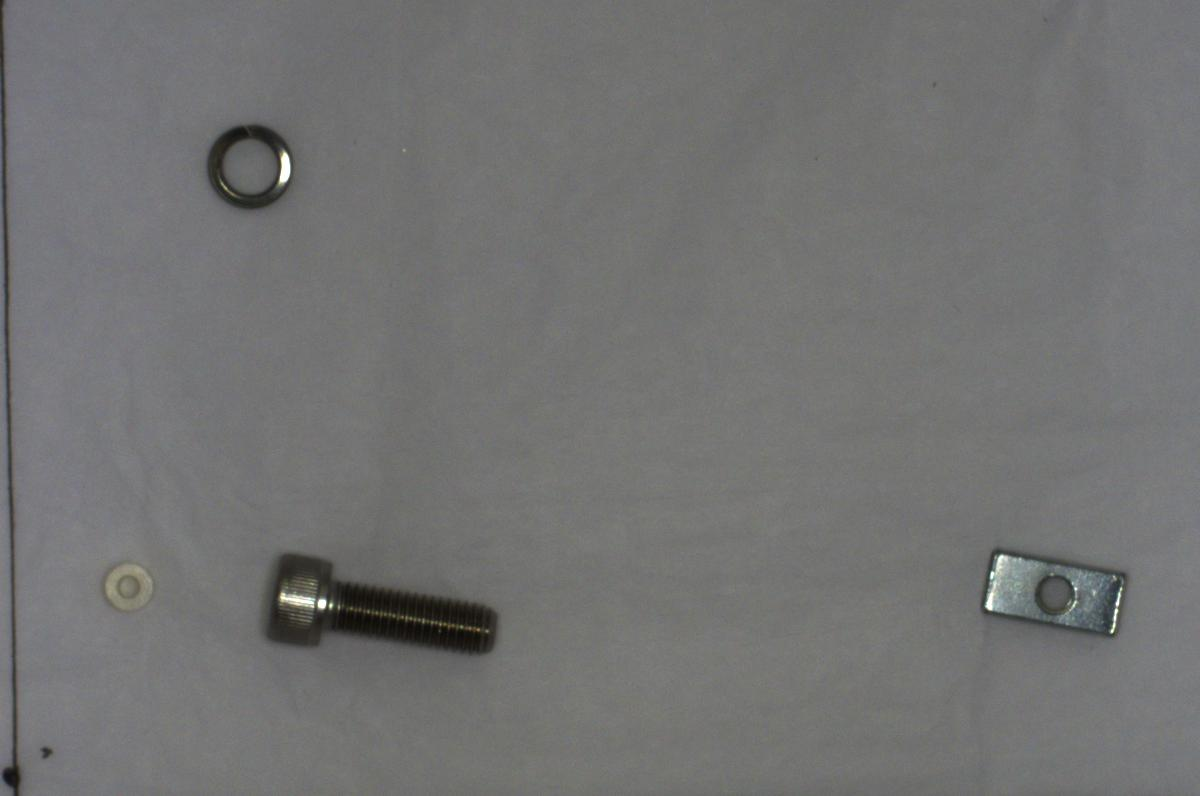Hexagon screw: (242, 540, 493, 673)
Plastic cushion pillar: (92, 553, 160, 620)
Rectangular nut: (970, 536, 1128, 640)
Spring washer: (185, 106, 300, 216)
